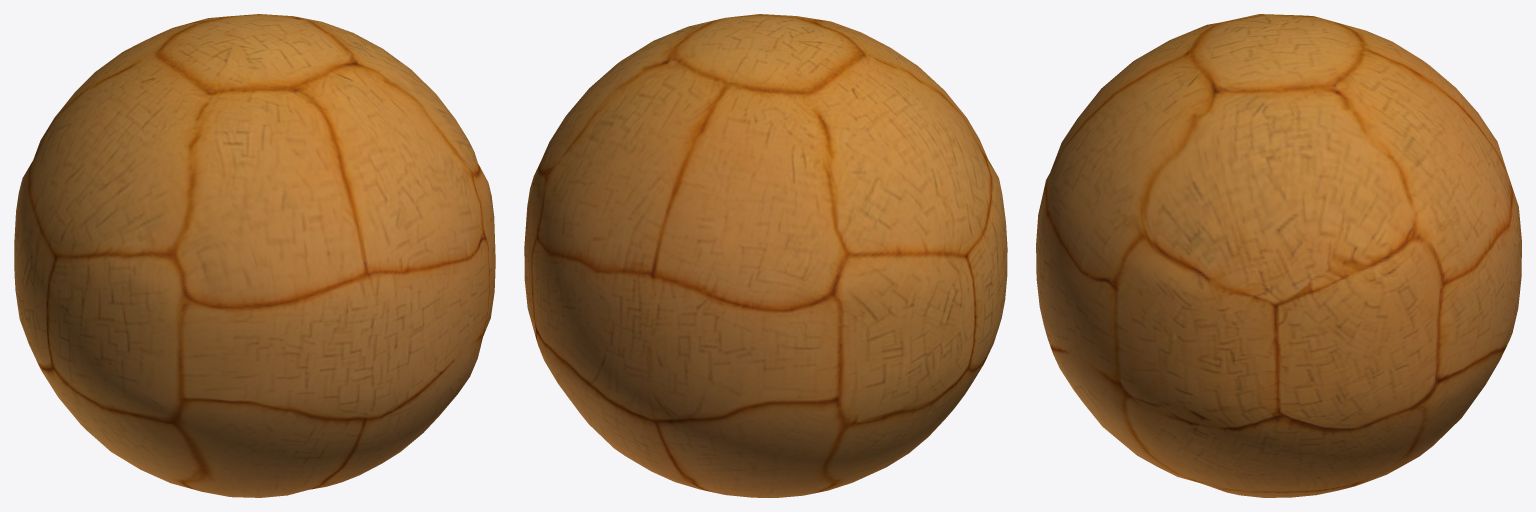
The model's file is 03-6493457-Textured-Soccer-Ball-model-pack.glb.
3 views of the same model, side by side, from view 1: azimuth 30°, elevation 25°; view 2: azimuth 150°, elevation 25°; view 3: azimuth 270°, elevation 25° (orthographic).
Visible parts, largest first — view 1: Retopo_neural_node_ff57b42b-b118-4120-b749-34a5434d7112; view 2: Retopo_neural_node_ff57b42b-b118-4120-b749-34a5434d7112; view 3: Retopo_neural_node_ff57b42b-b118-4120-b749-34a5434d7112.
Part boxes in pixels (box(x1,y1,x2,y2)): Retopo_neural_node_ff57b42b-b118-4120-b749-34a5434d7112: box(14, 14, 495, 497); Retopo_neural_node_ff57b42b-b118-4120-b749-34a5434d7112: box(524, 14, 1007, 497); Retopo_neural_node_ff57b42b-b118-4120-b749-34a5434d7112: box(1036, 14, 1521, 497).
Size of the model in its own units: 0.9378 by 0.9478 by 0.9503.
Materials: 1 (1 with a texture image).
